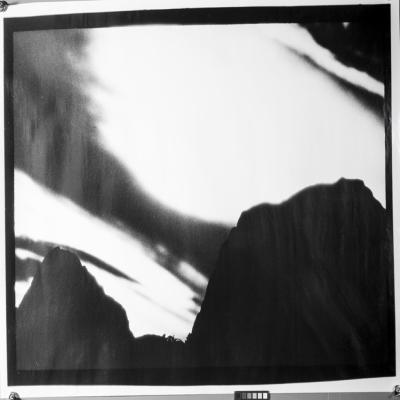photos_negatives: (0, 0, 381, 400)
